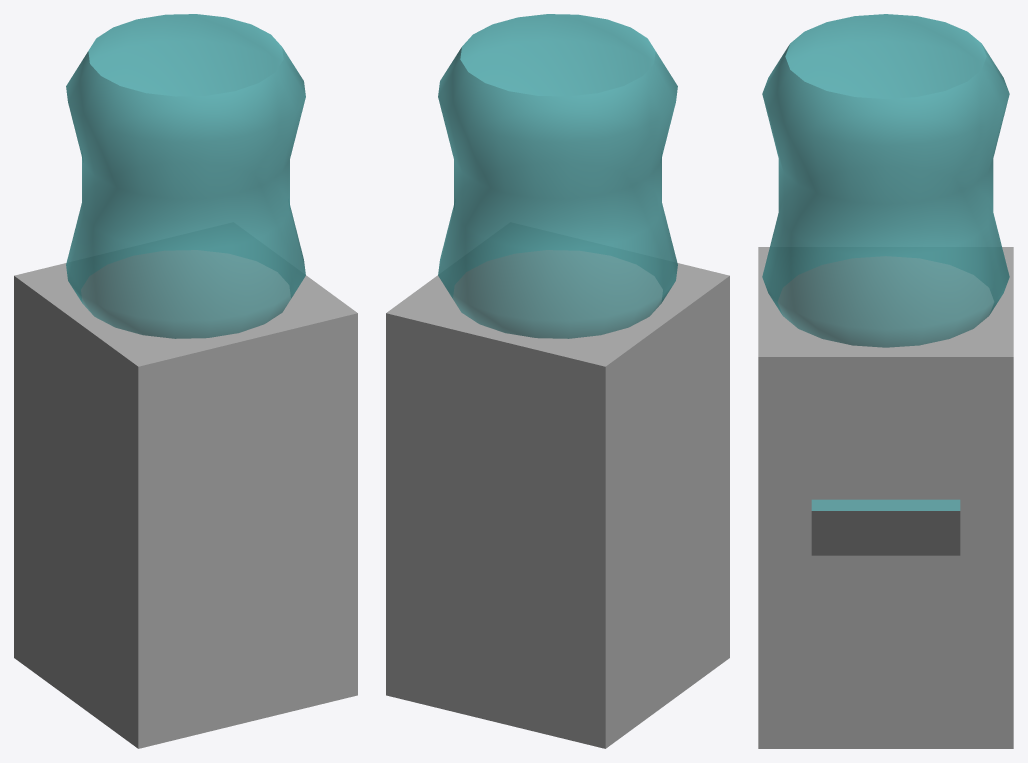
Rendered from WaterFountain.fbx.
3 renders of one model, left to right at view 1: azimuth 30°, elevation 25°; view 2: azimuth 150°, elevation 25°; view 3: azimuth 270°, elevation 25°, orthographic. The views are drawn at different scales.
Visible parts, largest first — view 1: WaterfountinBass, WaterfountinWater; view 2: WaterfountinBass, WaterfountinWater; view 3: WaterfountinBass, WaterfountinWater.
Part boxes in pixels (<box>): WaterfountinBass: <box>14,250,357,748</box>; WaterfountinWater: <box>66,14,305,338</box>; WaterfountinBass: <box>386,250,729,748</box>; WaterfountinWater: <box>438,14,677,338</box>; WaterfountinBass: <box>758,247,1013,748</box>; WaterfountinWater: <box>762,14,1009,347</box>.
Size of the model in its own units: 0.6632 by 1.63 by 0.59.
